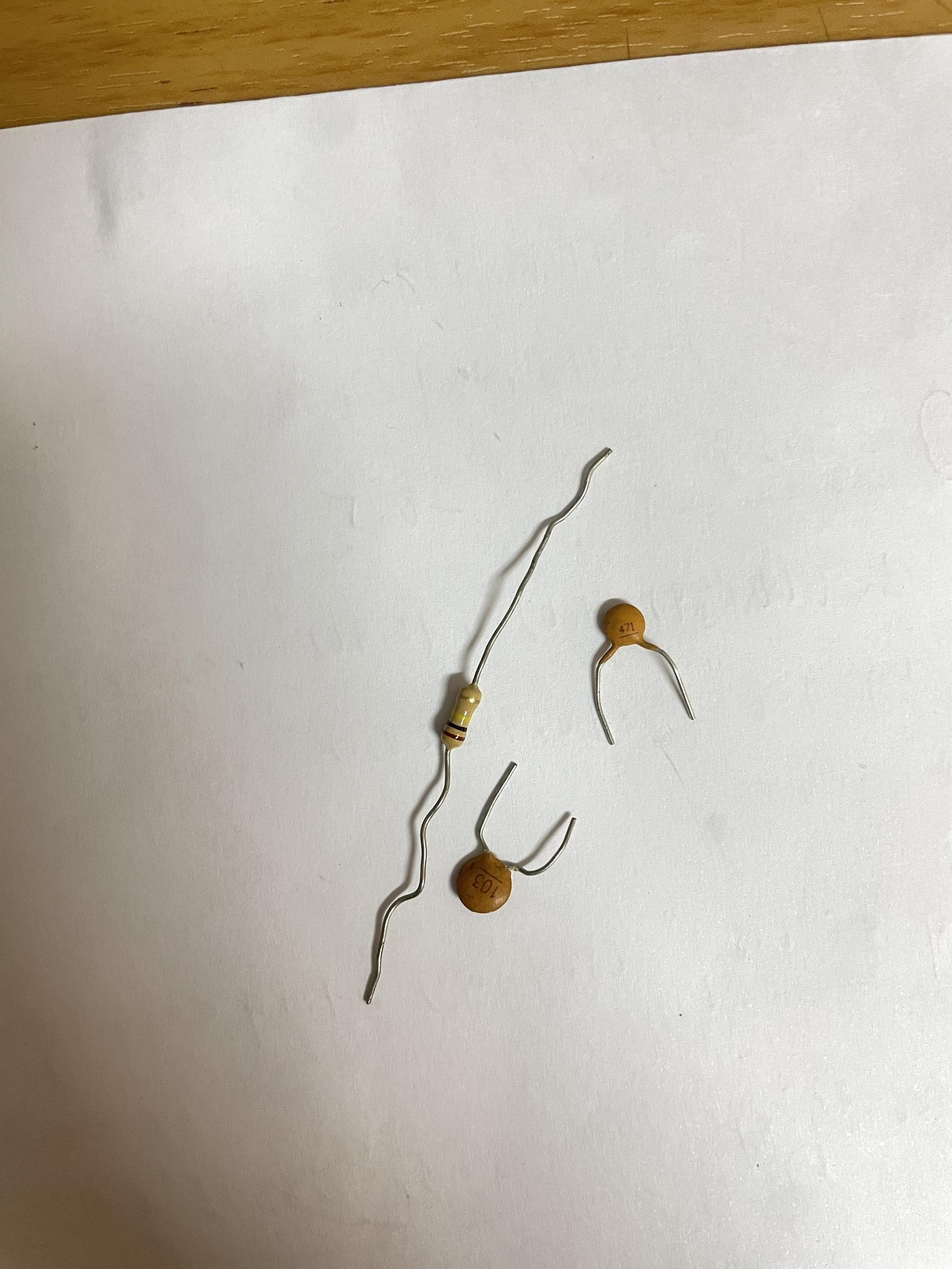resistor: (428, 673, 472, 752)
